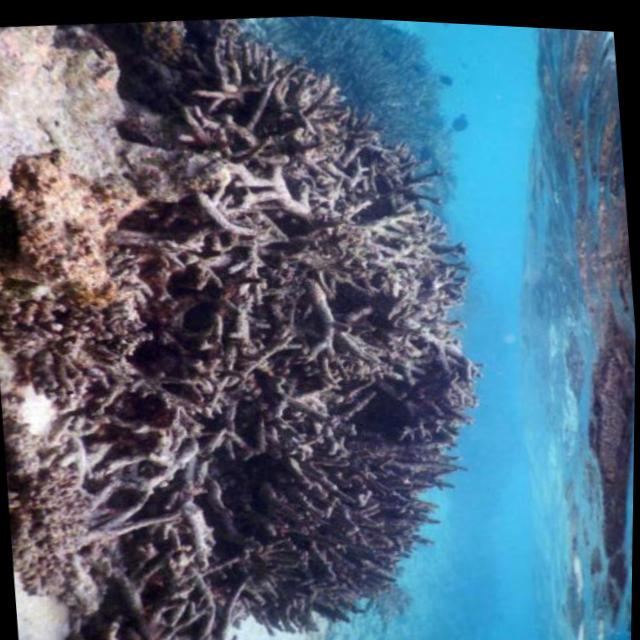Dead Coral: (165, 30, 528, 639), (0, 237, 219, 499), (45, 473, 259, 640)
